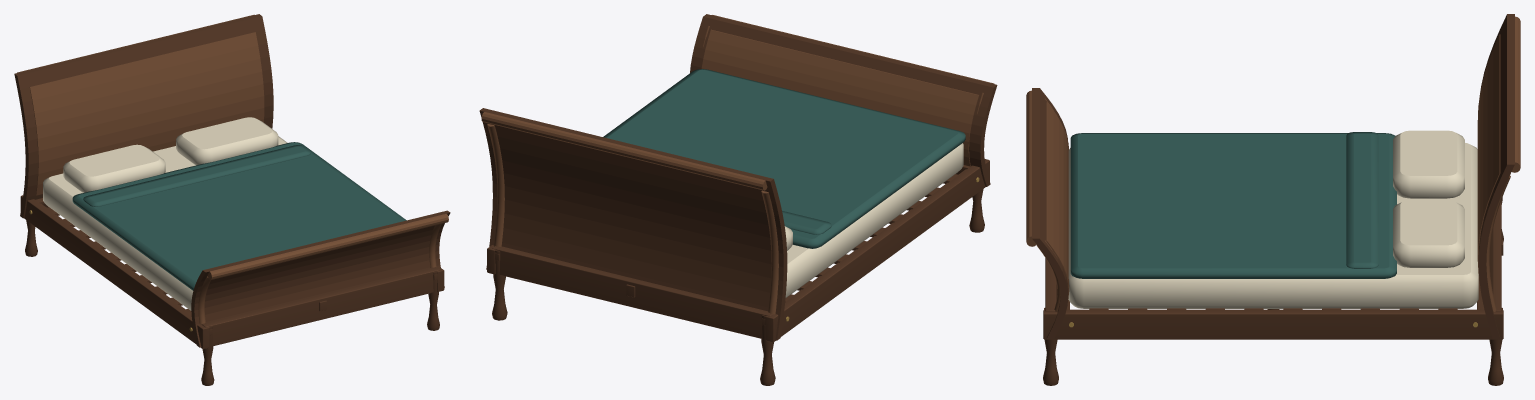
The model's file is rpg-mansion-sleigh-double-bed-01.glb.
The picture shows the model from 3 angles, left to right: view 1: azimuth 30°, elevation 25°; view 2: azimuth 150°, elevation 25°; view 3: azimuth 270°, elevation 25°; orthographic projection. The views are drawn at different scales.
Visible parts, largest first — view 1: rpg-mansion-sleigh-double-bed-01; view 2: rpg-mansion-sleigh-double-bed-01; view 3: rpg-mansion-sleigh-double-bed-01.
Part boxes in pixels (x1=…): rpg-mansion-sleigh-double-bed-01: x1=14, y1=14, x2=450, y2=385; rpg-mansion-sleigh-double-bed-01: x1=479, y1=14, x2=997, y2=385; rpg-mansion-sleigh-double-bed-01: x1=1026, y1=14, x2=1520, y2=385.
Bounding box in the file's own units: 1.66 × 1.15 × 2.3.
